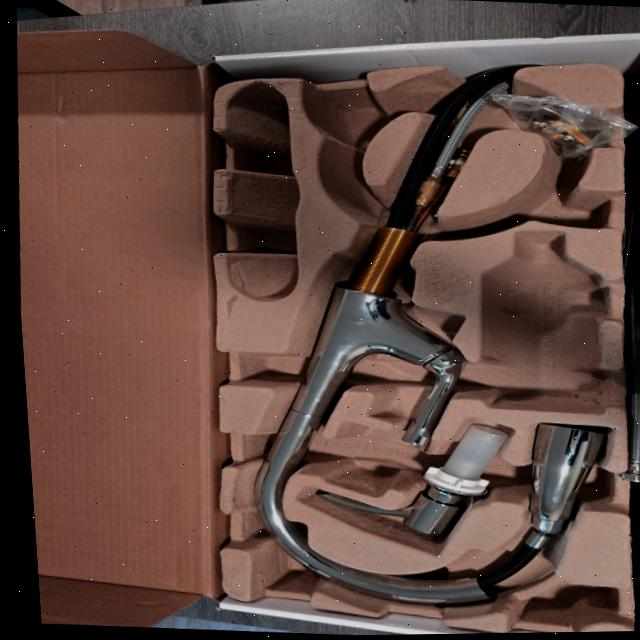1: (252, 66, 606, 605)
2: (312, 423, 510, 539)
3m: (480, 233, 605, 414)
4m: (229, 81, 300, 301)
5m: (315, 93, 389, 146)
6: (491, 93, 637, 161)
7m: (481, 169, 609, 230)
